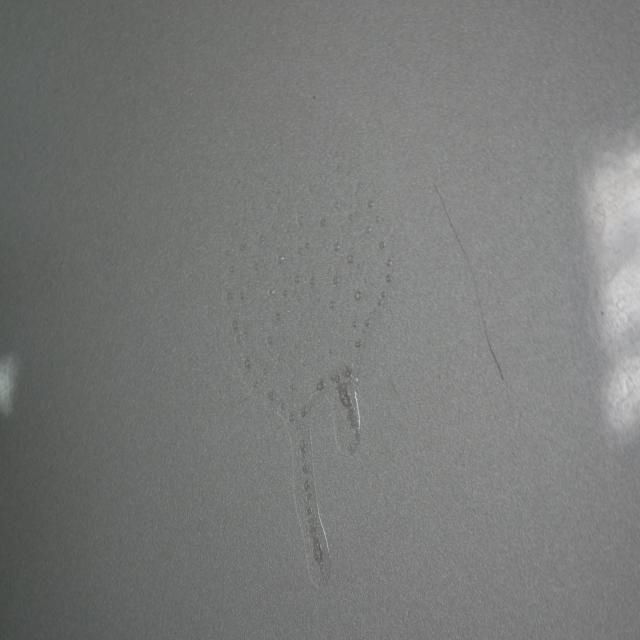runs: (208, 202, 399, 588)
scratch: (423, 172, 508, 388)
